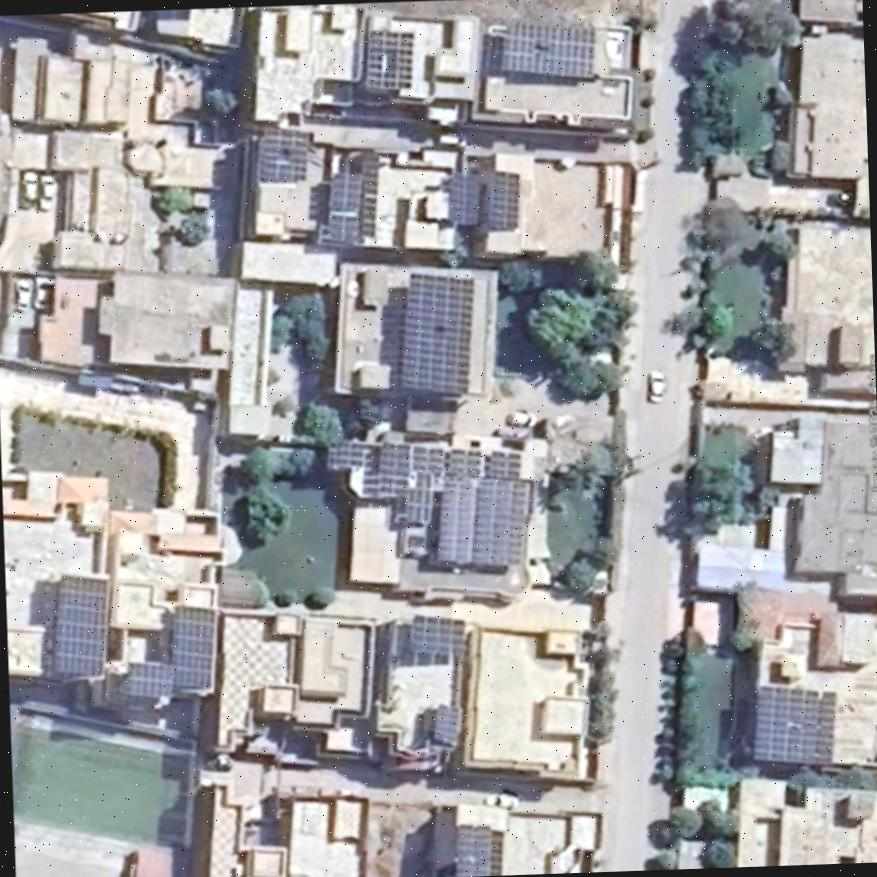Solarpanel: (402, 272, 477, 396), (436, 477, 531, 567), (755, 683, 833, 762), (54, 572, 110, 674), (502, 18, 593, 76), (173, 606, 213, 686), (364, 30, 417, 87), (258, 128, 308, 182), (328, 168, 361, 242), (455, 825, 501, 877), (410, 614, 470, 652), (489, 170, 519, 232), (446, 168, 479, 223), (127, 662, 175, 698), (380, 446, 406, 499), (408, 468, 431, 521), (329, 441, 374, 467), (431, 703, 458, 743), (445, 451, 481, 481), (486, 449, 522, 478), (362, 453, 381, 500), (411, 446, 443, 471)
